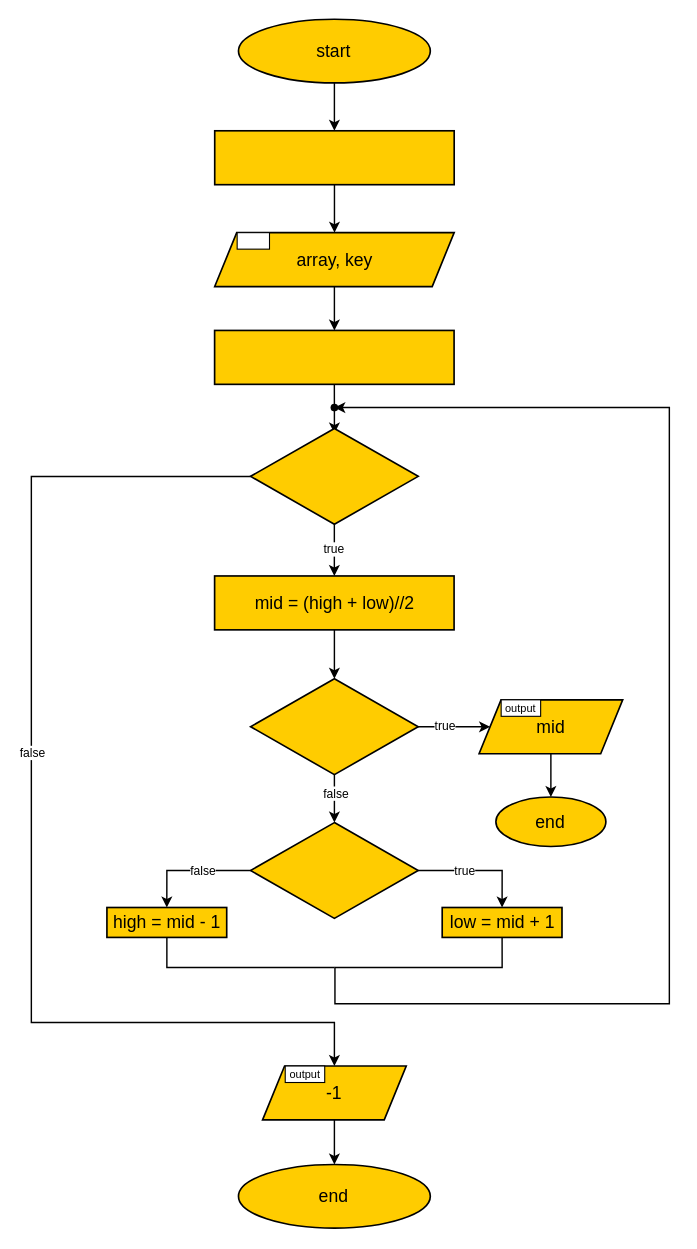
Some shapes in this 697 by 1249 pixel diagram are drawn without their labels. The shapes that lost their labels are listed below. From the top down, each one's centre as x and y in pixels, then its label:
[334,157]: low, mid, high, key = 0; array = [];
[253,240]: input
[333,357]: low = 0; high = array.length - 1;
[334,476]: low <= high
[334,726]: key == array[mid]
[334,870]: key > array[mid]
